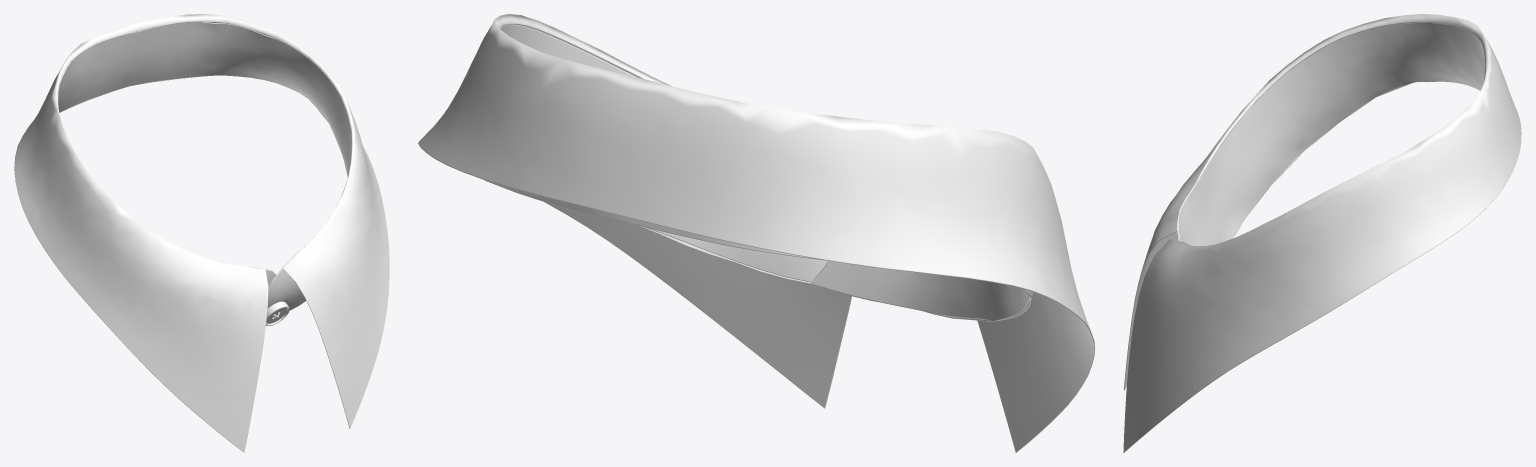
Rendered from Forword_Point_Collar.glb.
3 views of the same model, side by side, from view 1: azimuth 30°, elevation 25°; view 2: azimuth 150°, elevation 25°; view 3: azimuth 270°, elevation 25° (orthographic). The views are drawn at different scales.
Visible parts, largest first — view 1: Pattern_4935176_Node, inner_Node, Pattern_4935171_Node, button; view 2: Pattern_4935176_Node, inner_Node, Pattern_4935171_Node; view 3: Pattern_4935176_Node, inner_Node, Pattern_4935171_Node.
Part boxes in pixels (x1,y1,x2,y2): Pattern_4935176_Node: (14, 14, 389, 452); inner_Node: (58, 22, 351, 288); Pattern_4935171_Node: (59, 22, 328, 310); button: (266, 301, 289, 325); Pattern_4935176_Node: (418, 14, 1094, 452); inner_Node: (500, 24, 1030, 321); Pattern_4935171_Node: (483, 24, 1033, 321); Pattern_4935176_Node: (1123, 14, 1521, 452); inner_Node: (1173, 22, 1484, 246); Pattern_4935171_Node: (1167, 22, 1480, 245).
Bounding box in the file's own units: 16.16 × 14.28 × 14.22.
Materials: 4 (1 with a texture image).
